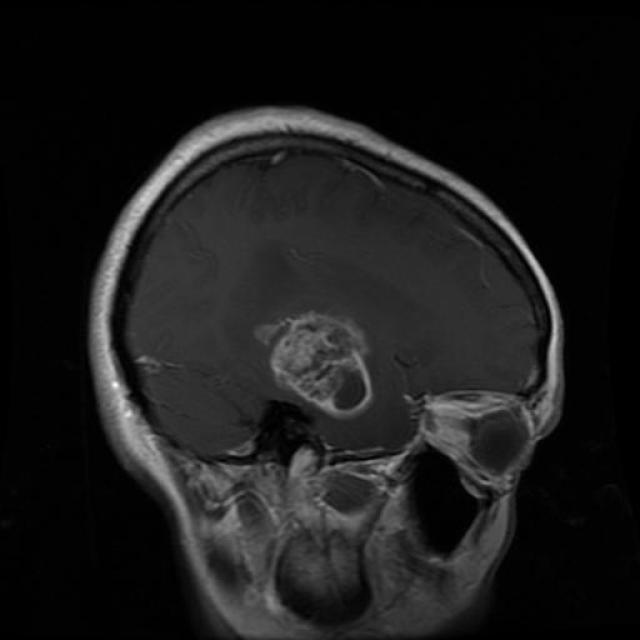glioma: (255, 306, 388, 429)
